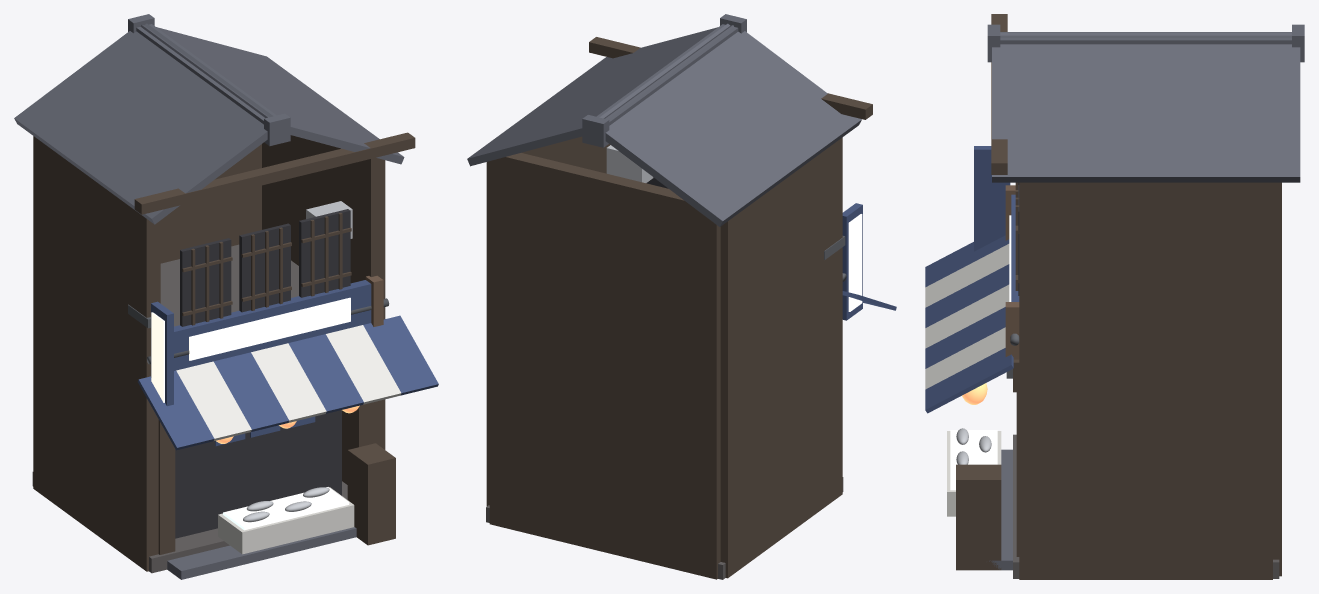
Rendered from prop_shop_sushi.glb.
The picture shows the model from 3 angles, left to right: view 1: azimuth 30°, elevation 25°; view 2: azimuth 150°, elevation 25°; view 3: azimuth 270°, elevation 25°; orthographic projection. The views are drawn at different scales.
Parts seen in each view (by area): view 1: shop_sushi; view 2: shop_sushi; view 3: shop_sushi.
Boxes of the visible parts, bbox=[...] form: shop_sushi: bbox=[14, 14, 438, 579]; shop_sushi: bbox=[467, 14, 896, 579]; shop_sushi: bbox=[925, 14, 1304, 579].
Size of the model in its own units: 3.9 by 5.9 by 4.19.
